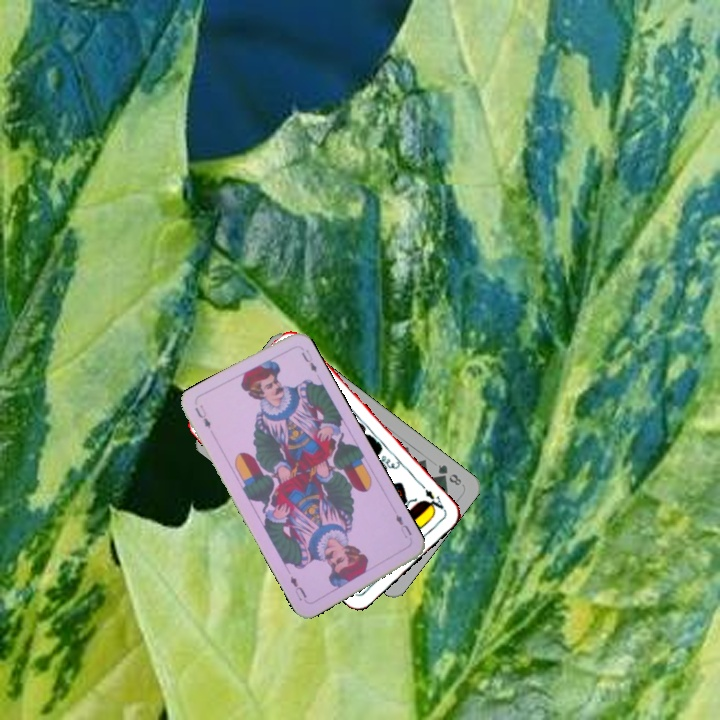EA: (417, 480, 448, 514)
EU: (392, 510, 414, 541), (191, 401, 213, 431)
G8: (434, 460, 464, 488)
